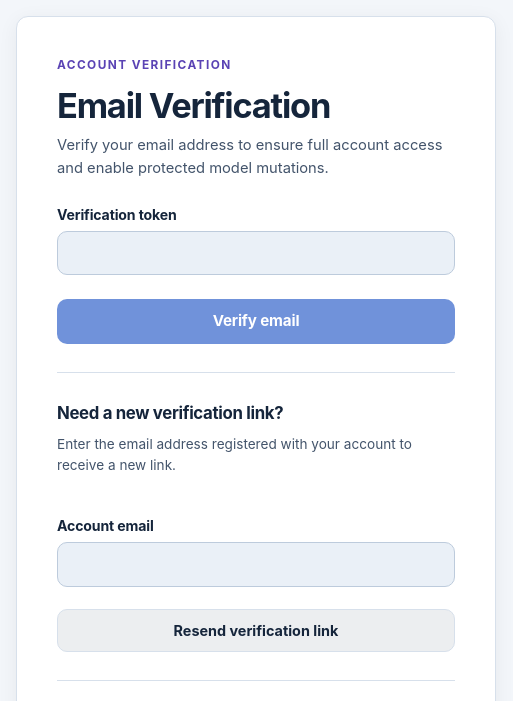
Test: Authentication pages › allows requesting a new verification link
The width and height of the screenshot is (513, 701).
Type "user@example.test" into the field labelled "Account email" at (256, 565), box [57, 542, 455, 587]
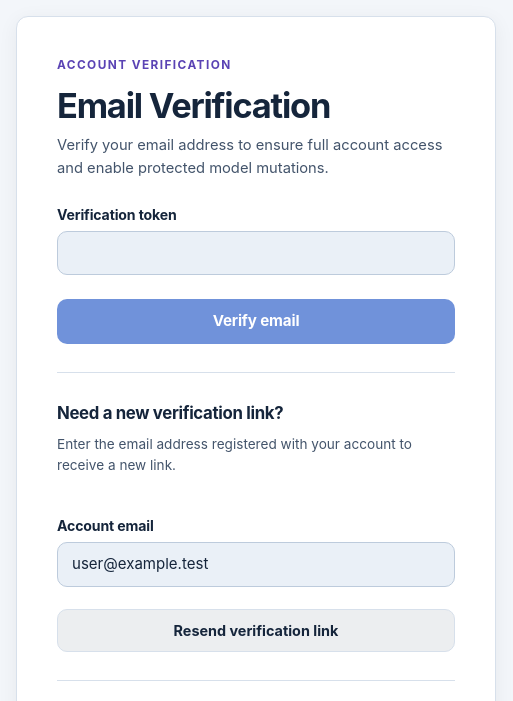
Click the button "Resend verification link" at (256, 631), box [57, 609, 455, 652]
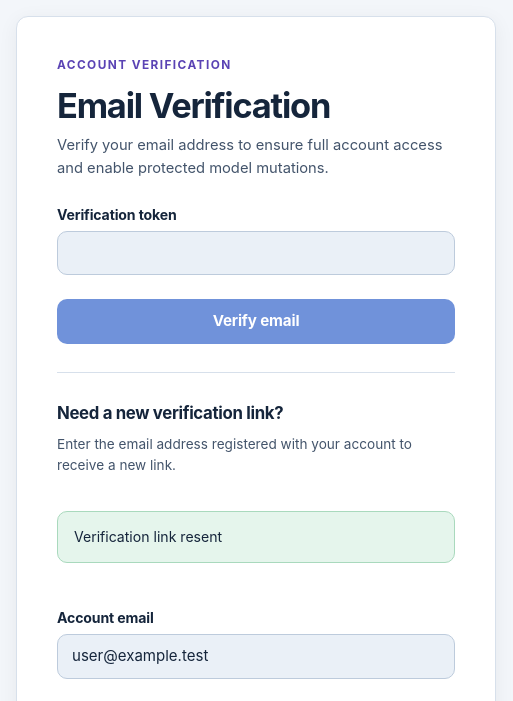
expect the text "Verification link resent" is shown: met, box [74, 528, 222, 545]
